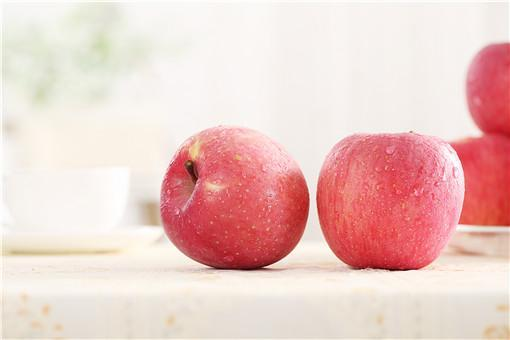apple: (156, 122, 308, 272), (314, 131, 465, 272)
